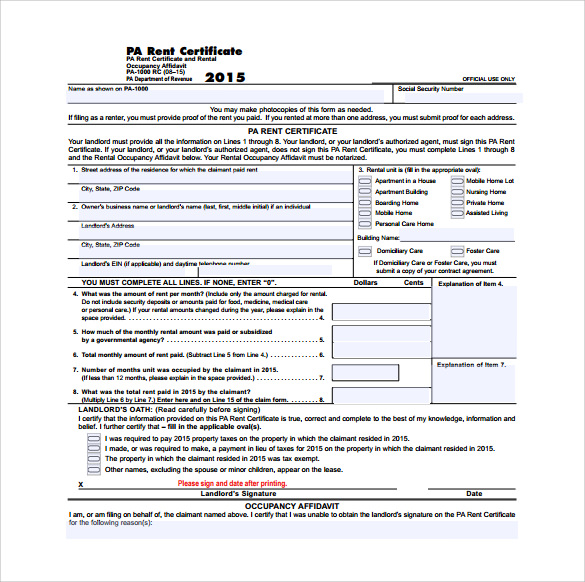checkbox: (448, 206, 467, 219), (84, 463, 103, 475), (85, 451, 103, 463), (448, 197, 468, 207), (356, 218, 374, 229), (357, 206, 373, 218), (449, 244, 465, 256), (449, 186, 466, 197), (85, 443, 103, 453), (357, 245, 372, 257), (86, 432, 102, 443), (357, 175, 374, 185), (356, 186, 374, 195), (451, 174, 465, 185), (357, 197, 373, 206)
textbox: (65, 519, 520, 540), (62, 216, 357, 245), (64, 178, 356, 206), (66, 81, 396, 105), (65, 160, 356, 187), (429, 274, 520, 360), (64, 198, 356, 224), (62, 237, 357, 261), (427, 355, 521, 407), (195, 253, 358, 280), (387, 79, 520, 107), (61, 255, 201, 281), (329, 299, 433, 323), (328, 322, 438, 343), (327, 339, 435, 360), (329, 384, 436, 405), (328, 360, 403, 383)
textline: (78, 476, 399, 494), (397, 226, 517, 244), (424, 475, 517, 493)
